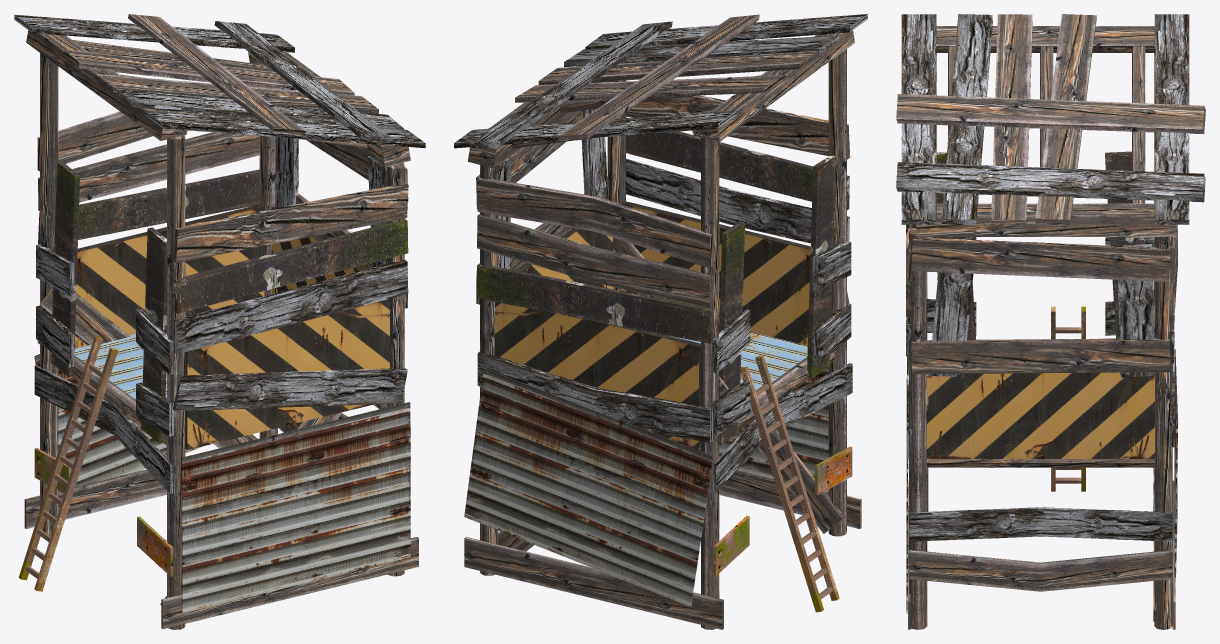
File: watchtower_01.fbx
The picture shows the model from 3 angles, left to right: view 1: azimuth 30°, elevation 25°; view 2: azimuth 150°, elevation 25°; view 3: azimuth 270°, elevation 25°; orthographic projection. The views are drawn at different scales.
Visible parts, largest first — view 1: watchtower_01; view 2: watchtower_01; view 3: watchtower_01.
Part boxes in pixels (x1,y1,x2,y2): watchtower_01: (14, 14, 425, 629); watchtower_01: (454, 14, 867, 629); watchtower_01: (896, 14, 1205, 629).
Size of the model in its own units: 3.89 by 6.12 by 3.45.
